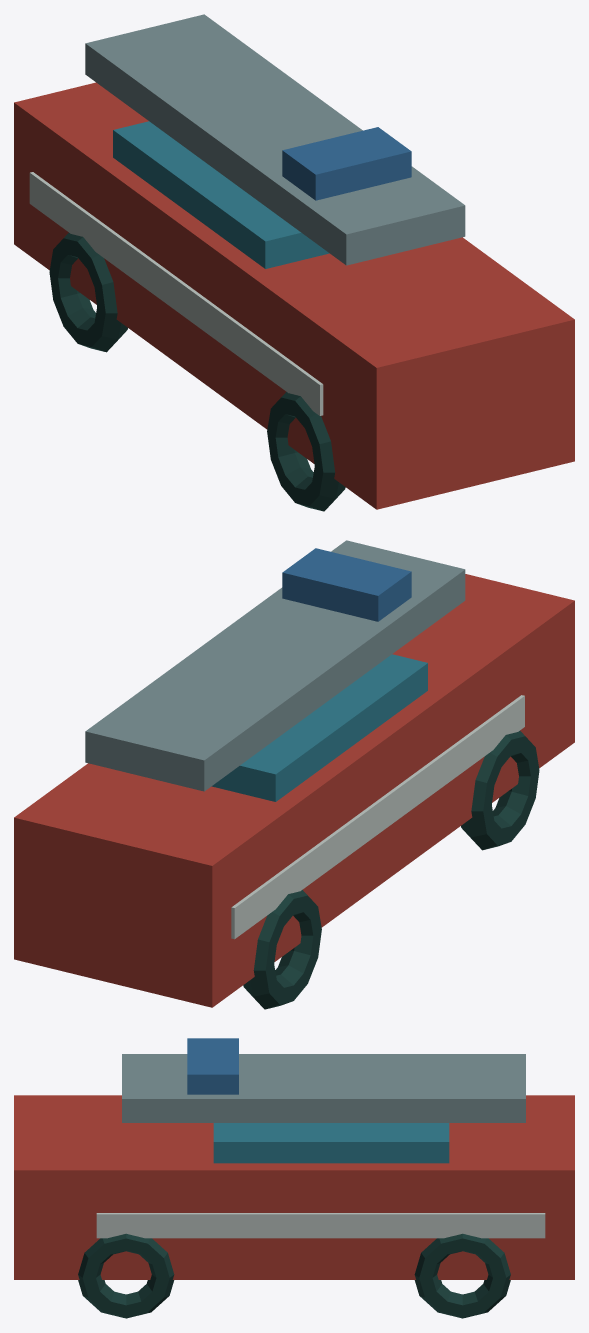
File: vehicle_fire_engine.glb
The picture shows the model from 3 angles, top to bottom: view 1: azimuth 30°, elevation 25°; view 2: azimuth 150°, elevation 25°; view 3: azimuth 270°, elevation 25°; orthographic projection. The views are drawn at different scales.
Visible parts, largest first — view 1: rough, metallic, glossy; view 2: rough, metallic, glossy; view 3: rough, metallic, glossy.
Boxes of the visible parts, x1,y1,x2,y2 form: rough: (14,82,574,511); metallic: (85,14,465,265); glossy: (113,121,329,268); rough: (14,548,574,1009); metallic: (85,540,465,791); glossy: (211,654,427,801); rough: (14,1038,574,1318); metallic: (122,1054,525,1122); glossy: (213,1123,449,1163).
Size of the model in its own units: 1.31 by 1.69 by 3.8.
